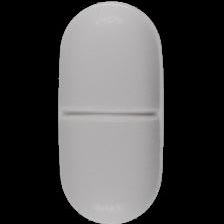21695-274: (0, 0, 224, 224)
